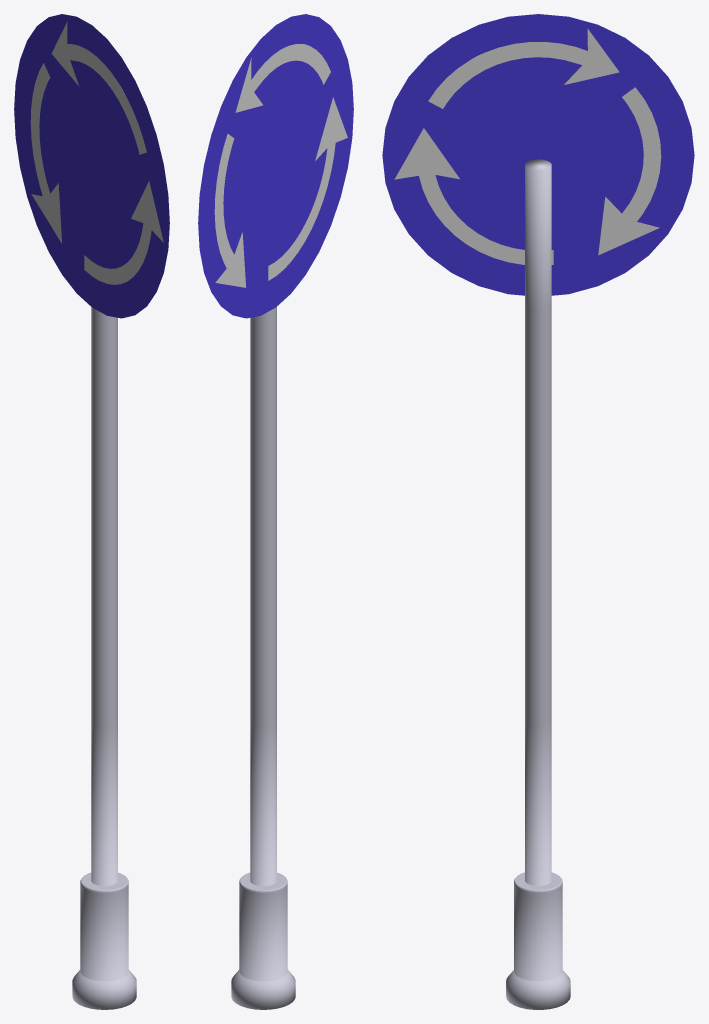
The model's file is DonelKavsakTabelasi.dae.
3 views of the same model, side by side, from view 1: azimuth 30°, elevation 25°; view 2: azimuth 150°, elevation 25°; view 3: azimuth 270°, elevation 25° (orthographic).
Parts seen in each view (by area): view 1: Circle.001, turnRightBody.001; view 2: Circle.001, turnRightBody.001; view 3: Circle.001, turnRightBody.001.
Part boxes in pixels (box(x1,y1,x2,y2)): Circle.001: box(14, 14, 169, 318); turnRightBody.001: box(72, 307, 136, 1009); Circle.001: box(198, 14, 353, 318); turnRightBody.001: box(231, 307, 295, 1009); Circle.001: box(382, 14, 694, 295); turnRightBody.001: box(506, 159, 570, 1009).
Size of the model in its own units: 0.1839 by 0.8936 by 3.08.
